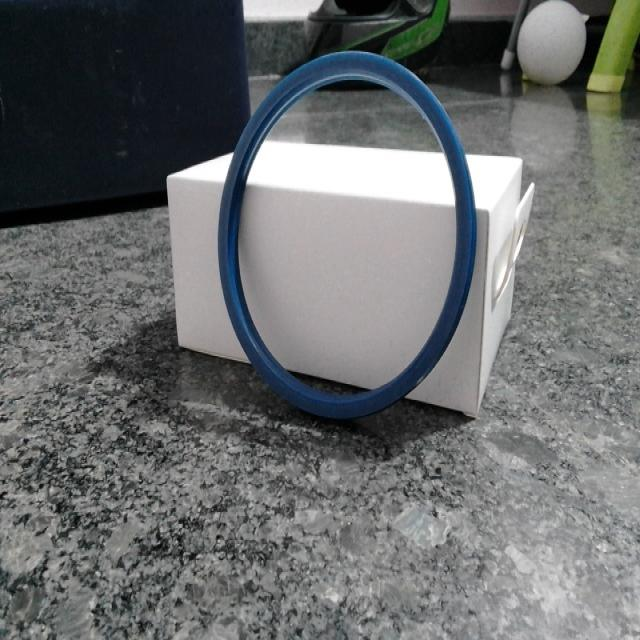purssian-blue-ring: (218, 52, 476, 418)
